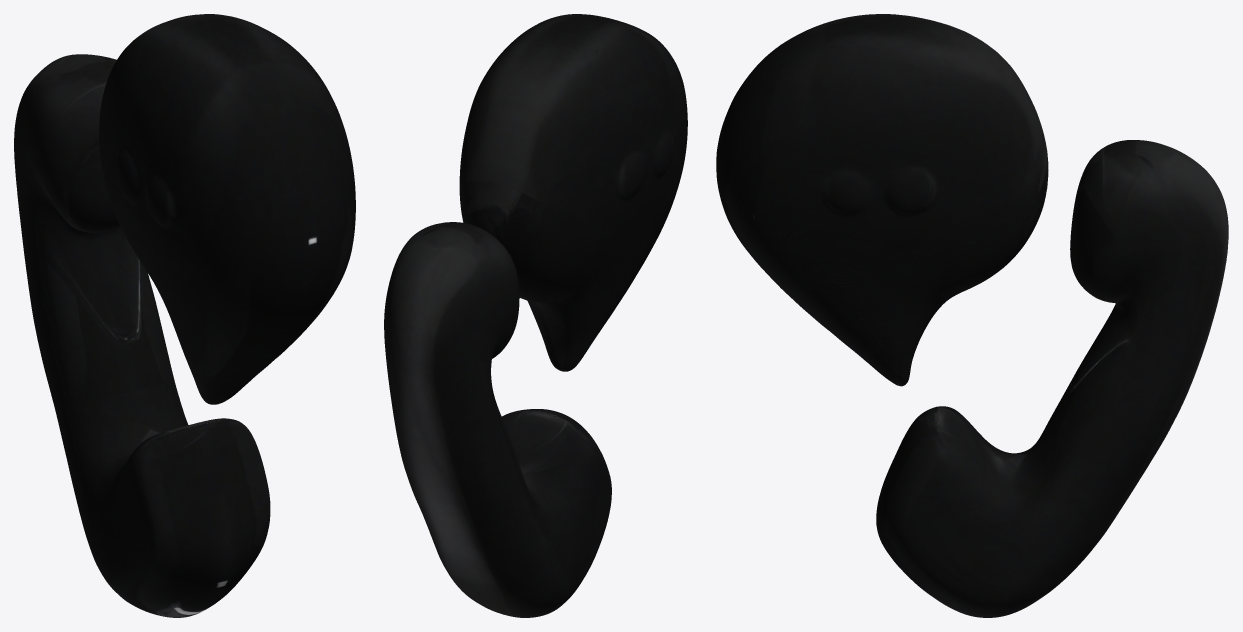
Rendered from contact.glb.
3 renders of one model, left to right at view 1: azimuth 30°, elevation 25°; view 2: azimuth 150°, elevation 25°; view 3: azimuth 270°, elevation 25°, orthographic. The views are drawn at different scales.
Size of the model in its own units: 0.6084 by 2 by 1.58.
1 material, 1 textured.
